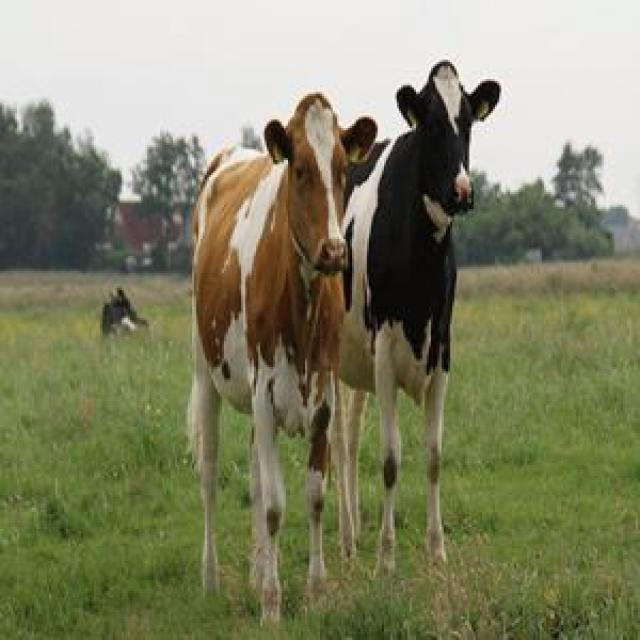cow: (191, 94, 376, 622), (339, 61, 500, 569)
